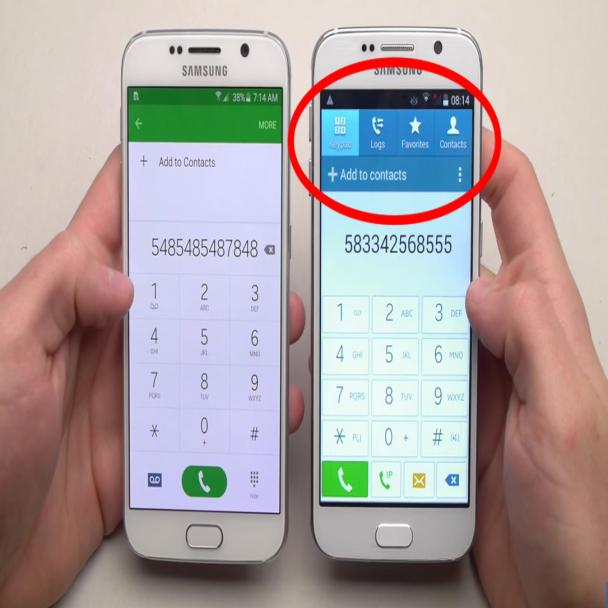Handphone: (304, 16, 490, 576), (118, 22, 292, 584)
